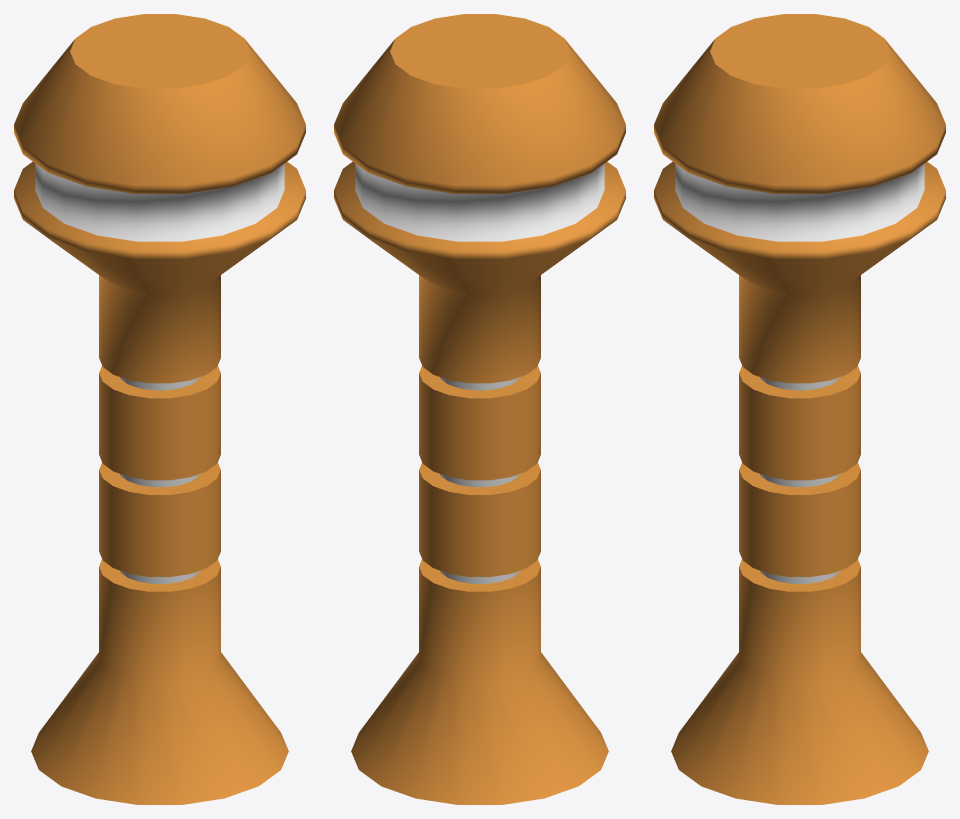
File: POSTE LUZ.fbx
3 renders of one model, left to right at view 1: azimuth 30°, elevation 25°; view 2: azimuth 150°, elevation 25°; view 3: azimuth 270°, elevation 25°, orthographic.
Parts seen in each view (by area): view 1: Luz 1.004; view 2: Luz 1.004; view 3: Luz 1.004.
Boxes of the visible parts, x1,y1,x2,y2 form: Luz 1.004: (14, 14, 305, 804); Luz 1.004: (334, 14, 625, 804); Luz 1.004: (654, 14, 945, 804).
Size of the model in its own units: 426 by 1146 by 433.
